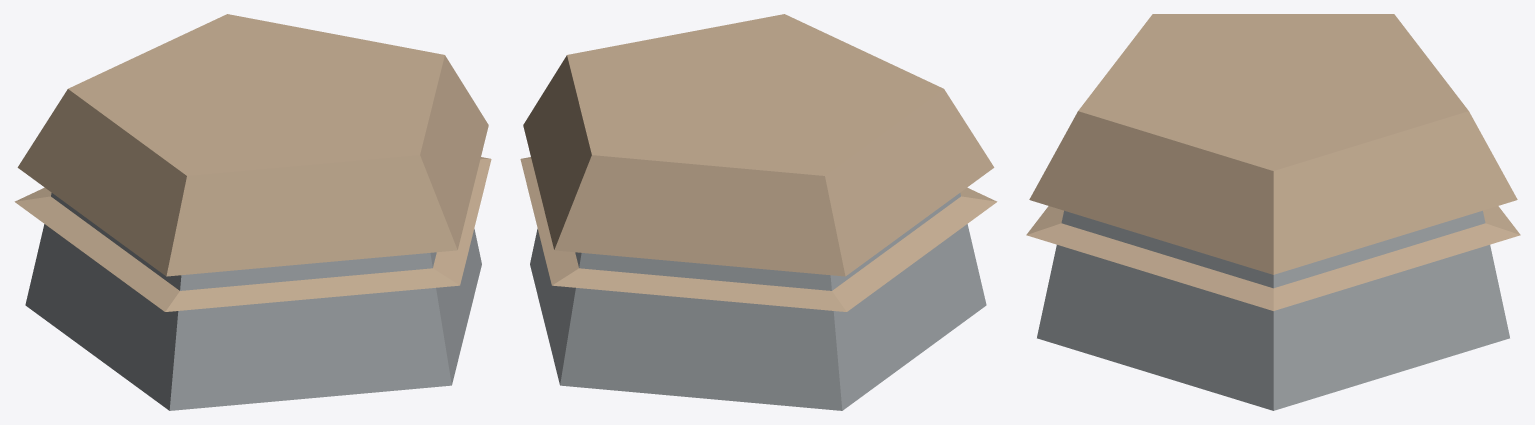
File: bench-far.glb
3 views of the same model, side by side, from view 1: azimuth 30°, elevation 25°; view 2: azimuth 150°, elevation 25°; view 3: azimuth 270°, elevation 25° (orthographic).
Visible parts, largest first — view 1: bench-far; view 2: bench-far; view 3: bench-far.
Part boxes in pixels (left/top/right/bottom): bench-far: left=14, top=14, right=491, bottom=410; bench-far: left=520, top=14, right=997, bottom=410; bench-far: left=1026, top=14, right=1520, bottom=410.
Bounding box in the file's own units: 1.93 × 1 × 2.02.
